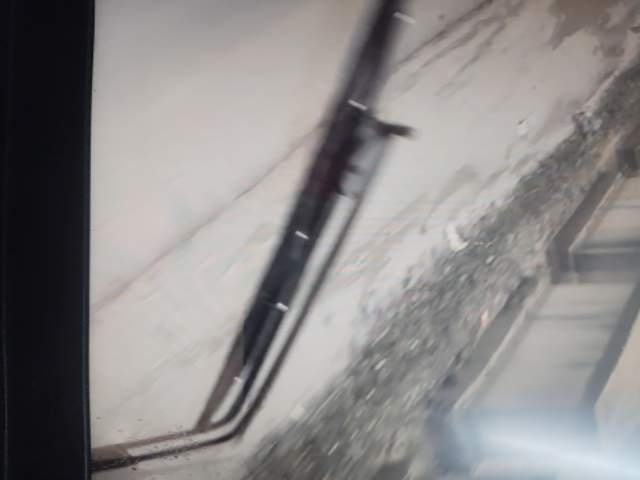pothole: (318, 311, 418, 391)
